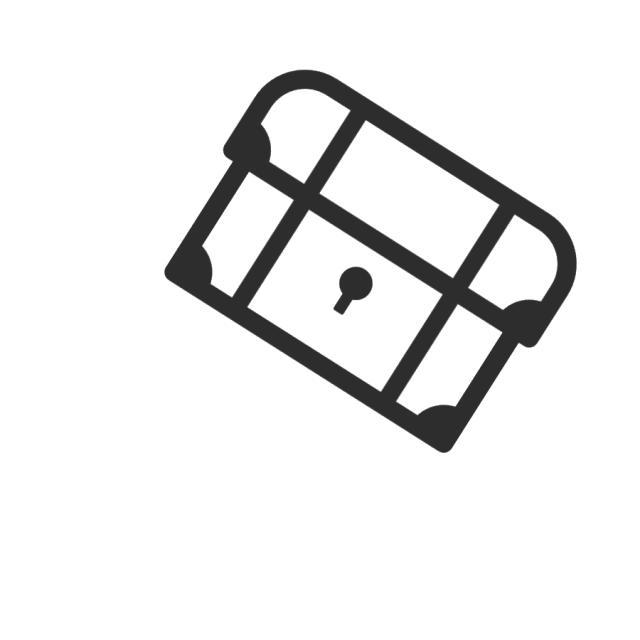treasure_box: (157, 65, 582, 463)
